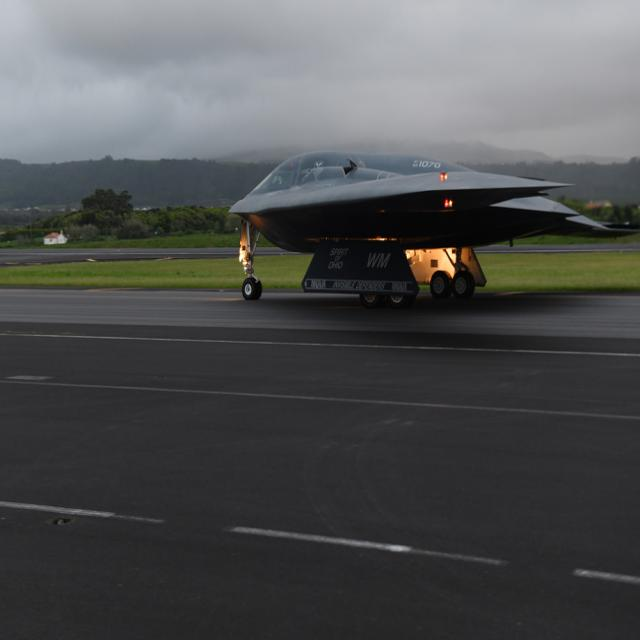MIL_Plane: (227, 22, 640, 179)
